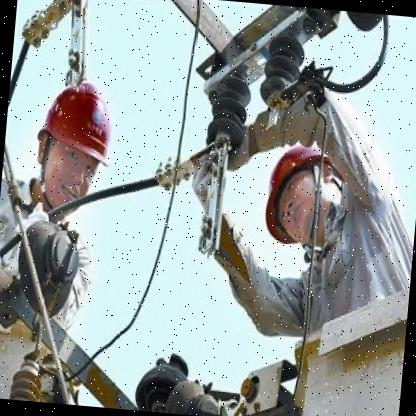capacete: (259, 134, 336, 252), (33, 76, 119, 172)
